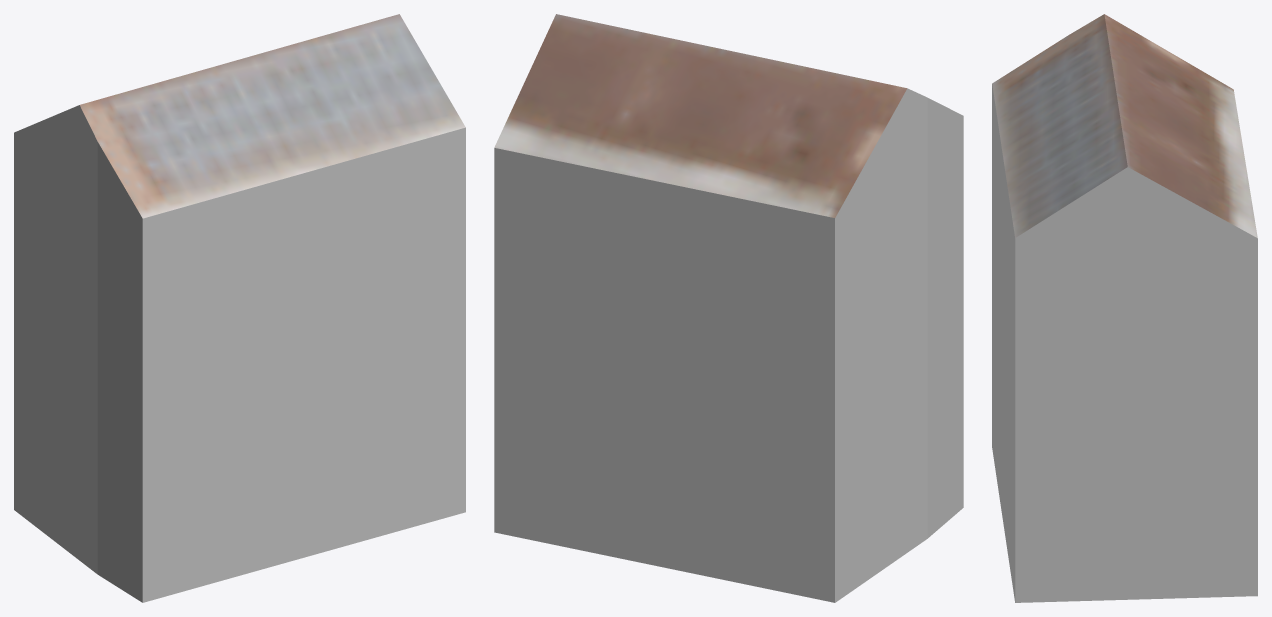
The model's file is DEBW_0010007Tx6x.gltf.
The picture shows the model from 3 angles, left to right: view 1: azimuth 30°, elevation 25°; view 2: azimuth 150°, elevation 25°; view 3: azimuth 270°, elevation 25°; orthographic projection. The views are drawn at different scales.
Parts seen in each view (by area): view 1: Z_UP; view 2: Z_UP; view 3: Z_UP.
Boxes of the visible parts, x1,y1,x2,y2 form: Z_UP: (14,14,465,602); Z_UP: (494,14,963,602); Z_UP: (992,14,1257,602).
Size of the model in its own units: 13.59 by 17.44 by 9.7.
Materials: 2 (1 with a texture image).
